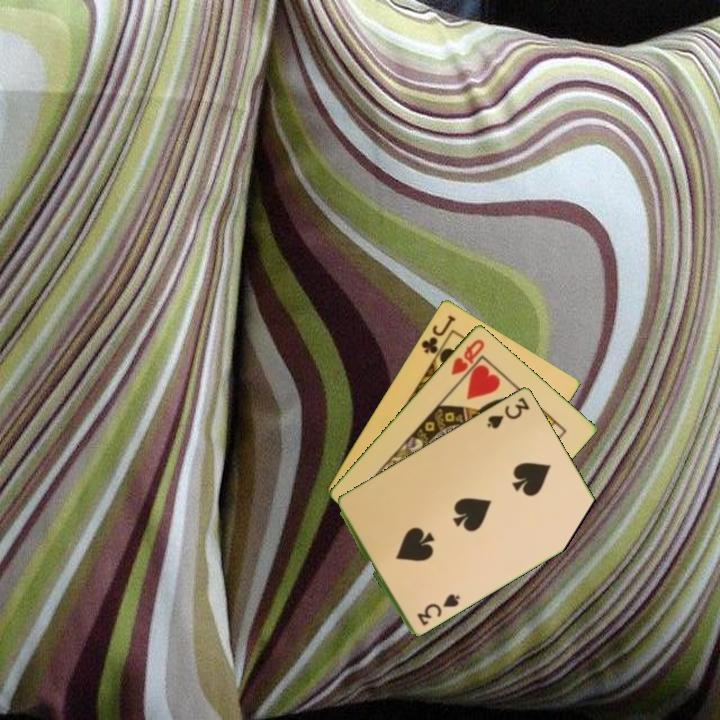3s: (483, 393, 533, 431), (413, 590, 462, 628)
Jc: (417, 311, 458, 356)
Qh: (447, 335, 488, 378)
